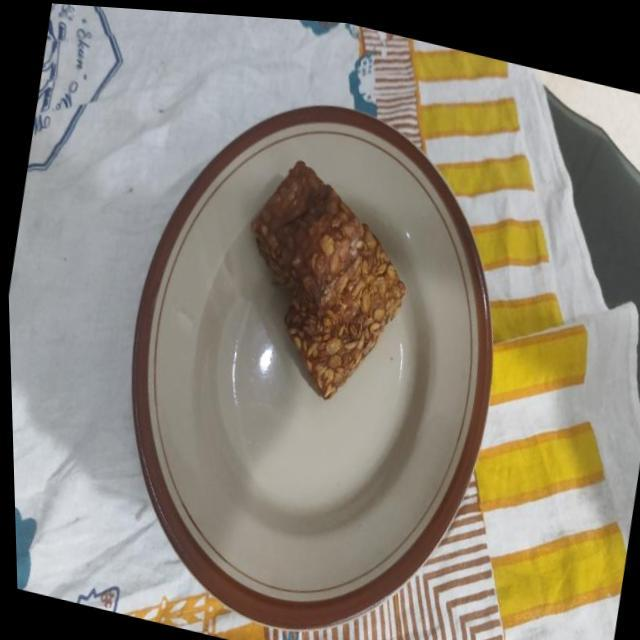tempe_goreng: (284, 224, 404, 398), (252, 160, 367, 318)
